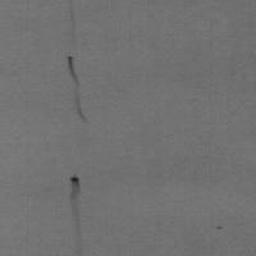Inclusion: (66, 55, 87, 123), (70, 175, 82, 256), (69, 6, 75, 29)
